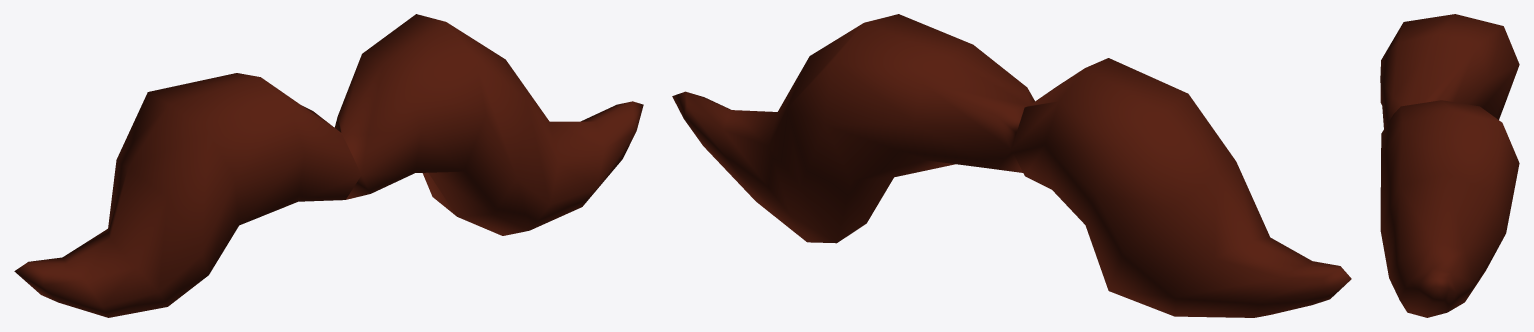
The model's file is props_viikset.glb.
3 views of the same model, side by side, from view 1: azimuth 30°, elevation 25°; view 2: azimuth 150°, elevation 25°; view 3: azimuth 270°, elevation 25° (orthographic). The views are drawn at different scales.
Visible parts, largest first — view 1: viikset; view 2: viikset; view 3: viikset.
Boxes of the visible parts, x1,y1,x2,y2 form: viikset: (14, 14, 643, 317); viikset: (672, 14, 1351, 317); viikset: (1380, 14, 1519, 317).
Bounding box in the file's own units: 1.62 × 0.5316 × 0.3768.
